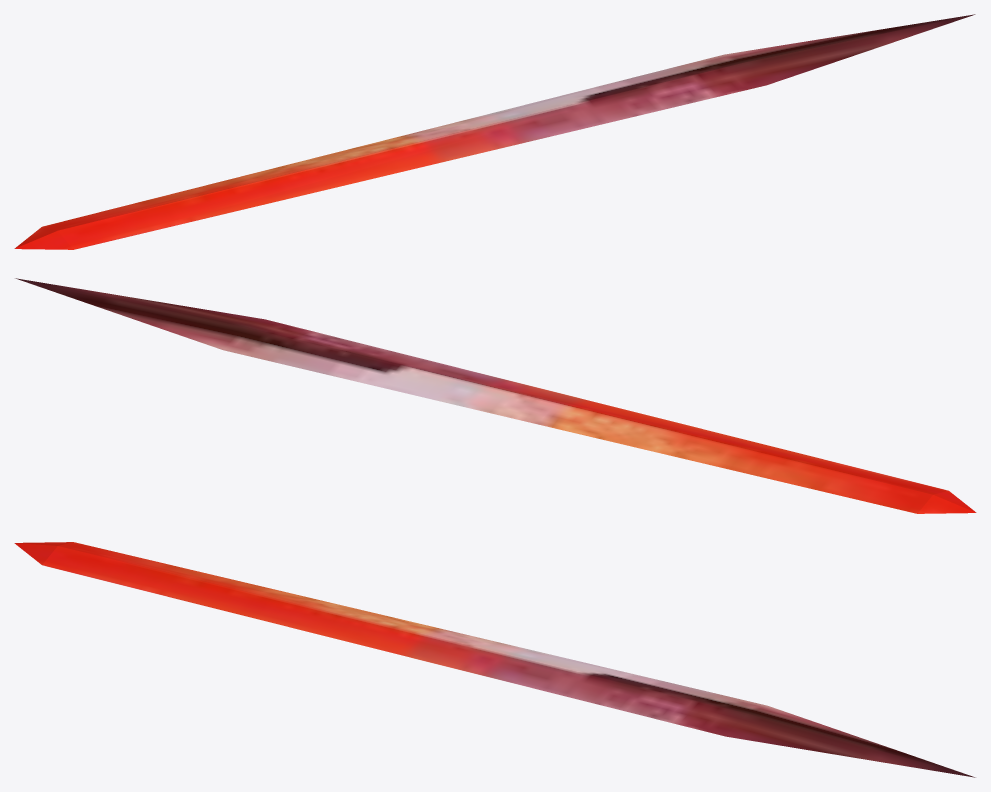
File: NIEUFORMOWANE_METEORYTOWE_OSTRZE.glb
The picture shows the model from 3 angles, top to bottom: view 1: azimuth 30°, elevation 25°; view 2: azimuth 150°, elevation 25°; view 3: azimuth 330°, elevation 25°; orthographic projection.
Parts seen in each view (by area): view 1: NIEUFORMOWANE_METEORYTOWE_OSTRZE; view 2: NIEUFORMOWANE_METEORYTOWE_OSTRZE; view 3: NIEUFORMOWANE_METEORYTOWE_OSTRZE.
Part boxes in pixels (bbox=[...]): NIEUFORMOWANE_METEORYTOWE_OSTRZE: bbox=[14, 14, 975, 249]; NIEUFORMOWANE_METEORYTOWE_OSTRZE: bbox=[15, 278, 976, 513]; NIEUFORMOWANE_METEORYTOWE_OSTRZE: bbox=[14, 542, 975, 777].
Bounding box in the file's own units: 1.05 × 0.016 × 0.08.
1 material, 1 textured.
